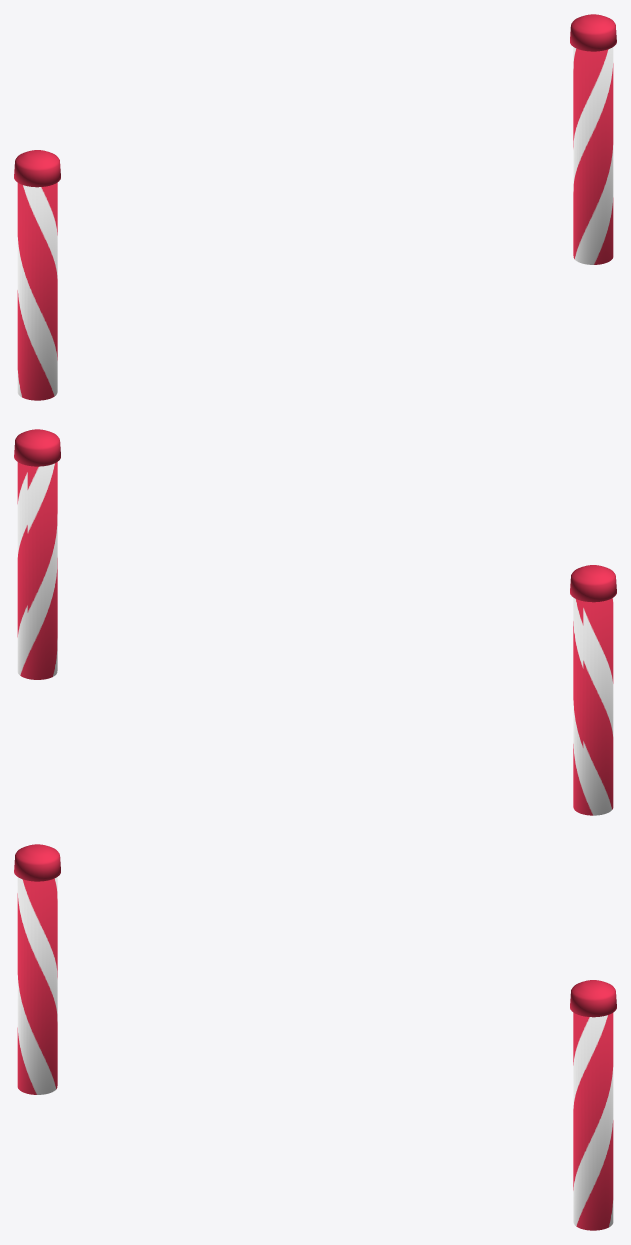
Rendered from GroundDoor.fbx.
The picture shows the model from 3 angles, top to bottom: view 1: azimuth 30°, elevation 25°; view 2: azimuth 150°, elevation 25°; view 3: azimuth 330°, elevation 25°; orthographic projection.
Visible parts, largest first — view 1: Cylinder.009; view 2: Cylinder.009; view 3: Cylinder.009.
Part boxes in pixels (x1,y1,x2,y2): Cylinder.009: (14,14,616,400); Cylinder.009: (14,429,616,815); Cylinder.009: (14,844,616,1230).
Bounding box in the file's own units: 241 × 91.68 × 16.49.
1 material, 1 textured.
